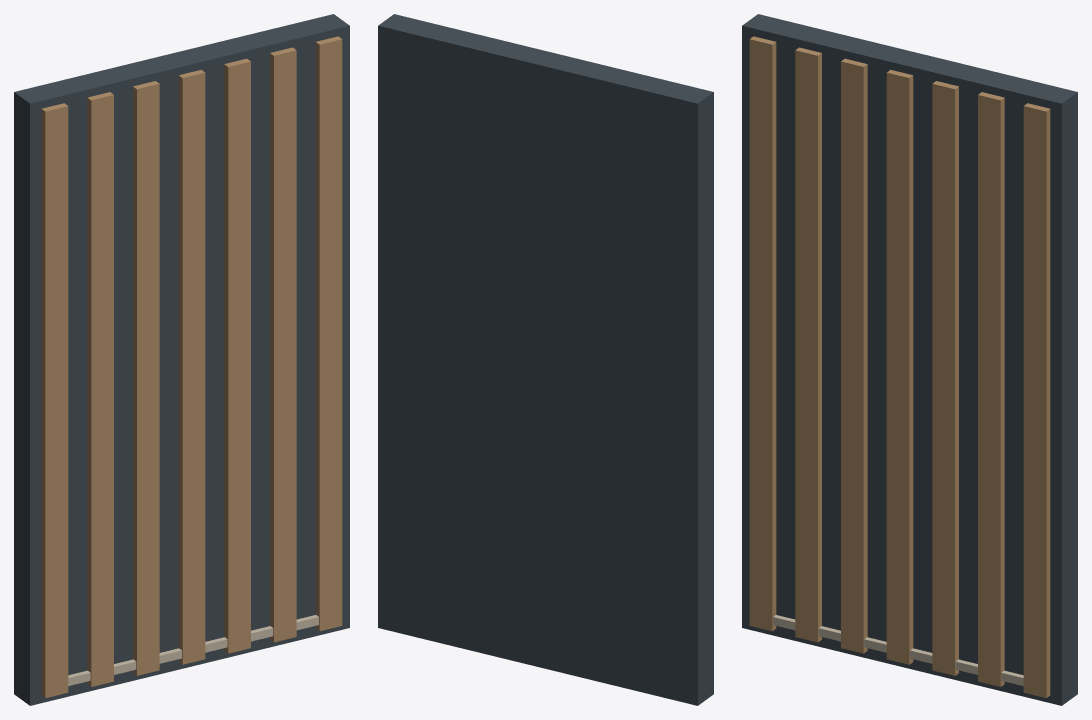
Rendered from acousticPanel-2.glb.
The picture shows the model from 3 angles, left to right: view 1: azimuth 30°, elevation 25°; view 2: azimuth 150°, elevation 25°; view 3: azimuth 330°, elevation 25°; orthographic projection.
Visible parts, largest first — view 1: acousticPanel:2:editor; view 2: acousticPanel:2:editor; view 3: acousticPanel:2:editor.
Boxes of the visible parts, left/top/right/bottom form: acousticPanel:2:editor: left=14, top=14, right=349, bottom=705; acousticPanel:2:editor: left=378, top=14, right=713, bottom=705; acousticPanel:2:editor: left=742, top=14, right=1077, bottom=705.
Size of the model in its own units: 0.75 by 1.35 by 0.081.
